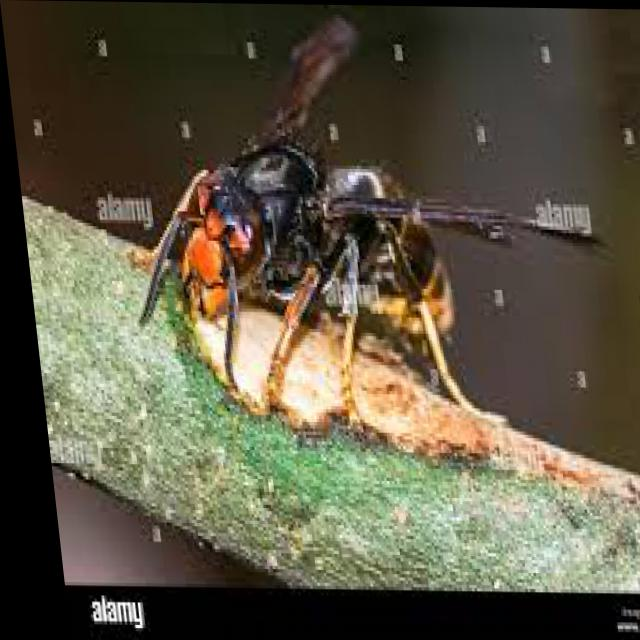Vespa Velutina: (93, 1, 539, 440)
